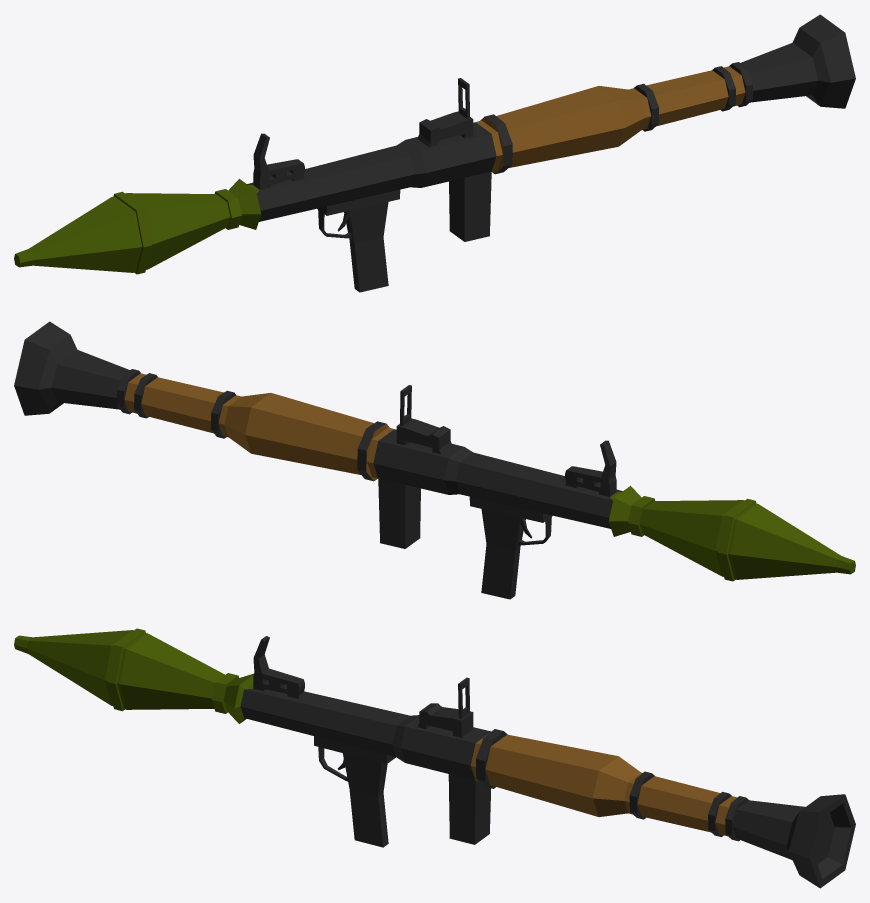
The model's file is rpg.glb.
3 views of the same model, one above another, from view 1: azimuth 30°, elevation 25°; view 2: azimuth 150°, elevation 25°; view 3: azimuth 330°, elevation 25° (orthographic).
Parts seen in each view (by area): view 1: Cylinder; view 2: Cylinder; view 3: Cylinder.
Part boxes in pixels (x1,y1,x2,y2): Cylinder: (14, 14, 855, 292); Cylinder: (14, 321, 855, 599); Cylinder: (14, 628, 855, 888).
Size of the model in its own units: 12.35 by 2.66 by 1.21.
